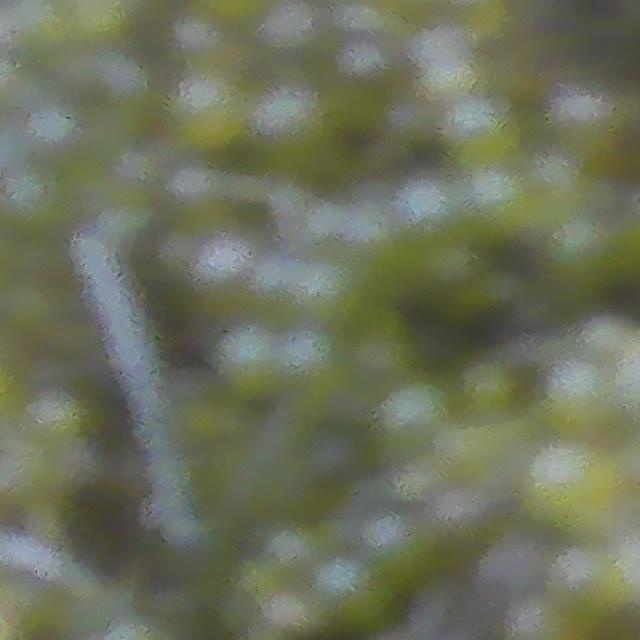SeaGrape: (526, 437, 624, 536), (171, 68, 248, 149), (547, 359, 611, 424)
